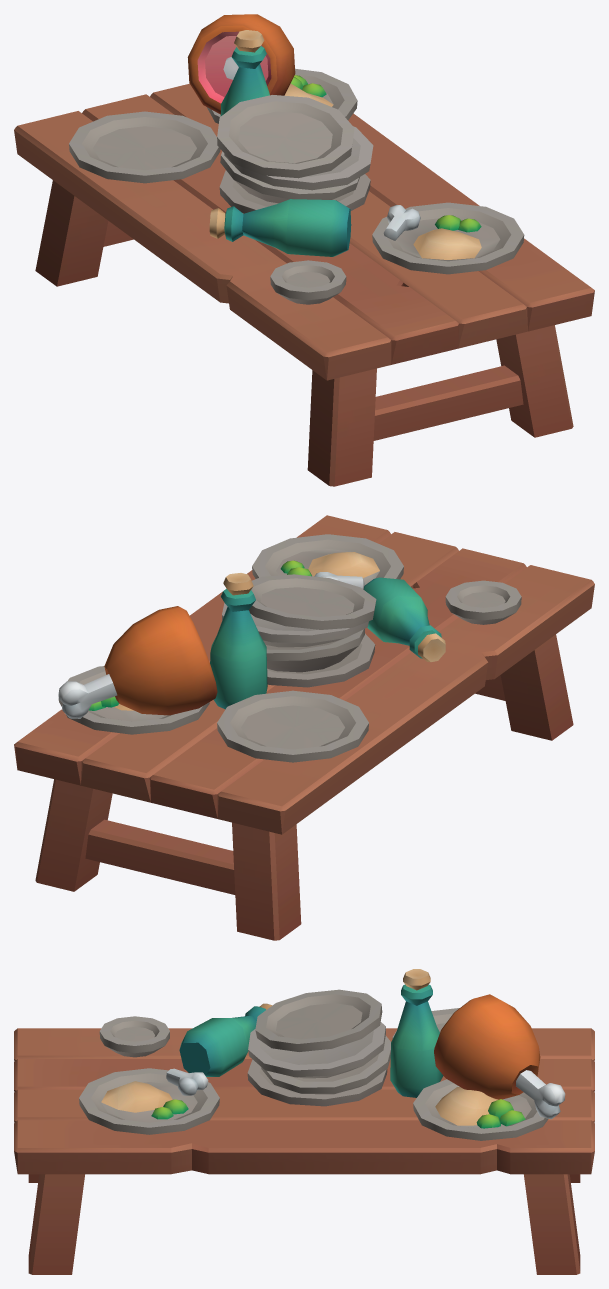
Rendered from table-long-decorated-a-gltf.glb.
The picture shows the model from 3 angles, top to bottom: view 1: azimuth 30°, elevation 25°; view 2: azimuth 150°, elevation 25°; view 3: azimuth 270°, elevation 25°; orthographic projection. The views are drawn at different scales.
Visible parts, largest first — view 1: table_long_decorated_A; view 2: table_long_decorated_A; view 3: table_long_decorated_A.
Part boxes in pixels (x1=…): table_long_decorated_A: x1=14, y1=14, x2=594, y2=486; table_long_decorated_A: x1=14, y1=515, x2=594, y2=940; table_long_decorated_A: x1=14, y1=969, x2=594, y2=1274.
Bounding box in the file's own units: 2.06 × 1.89 × 4.
Materials: 1 (1 with a texture image).
